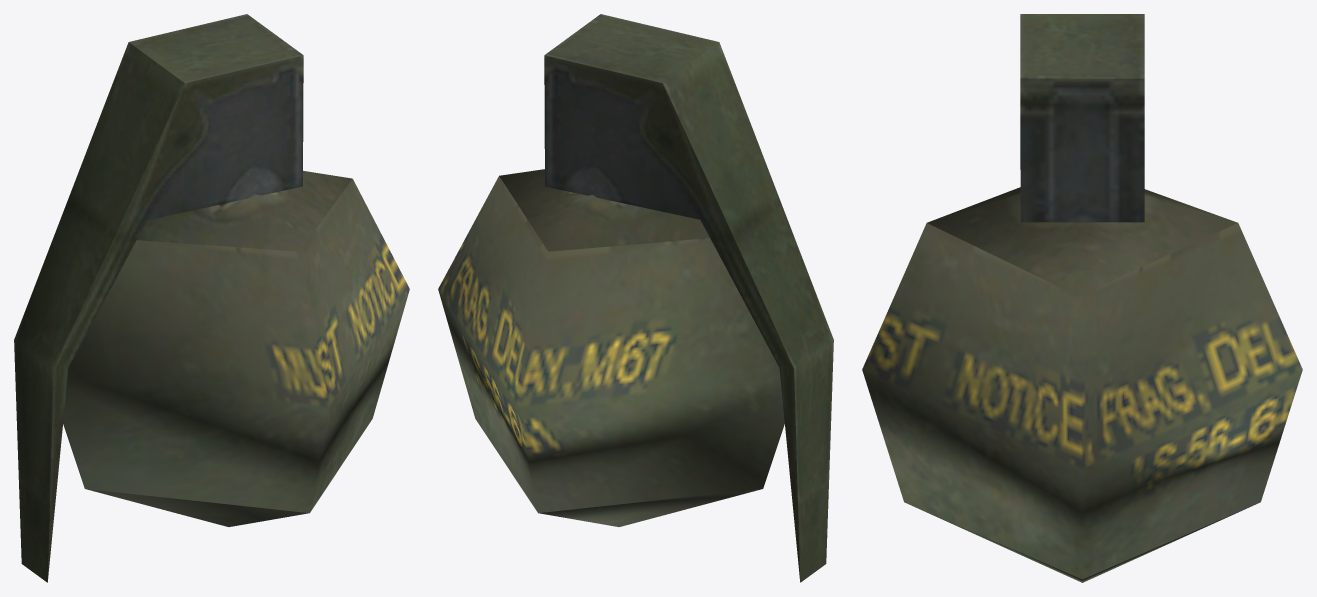
File: Heavy_Throwable_sl_01_lod2_LOD_(000906).glb
3 renders of one model, left to right at view 1: azimuth 30°, elevation 25°; view 2: azimuth 150°, elevation 25°; view 3: azimuth 270°, elevation 25°, orthographic. The views are drawn at different scales.
Visible parts, largest first — view 1: sl_01_lod2; view 2: sl_01_lod2; view 3: sl_01_lod2.
Part boxes in pixels (<box>): sl_01_lod2: <box>14,14,409,582</box>; sl_01_lod2: <box>438,14,833,582</box>; sl_01_lod2: <box>862,14,1302,582</box>.
Size of the model in its own units: 0.1081 by 0.1325 by 0.0998.
Materials: 1 (1 with a texture image).
